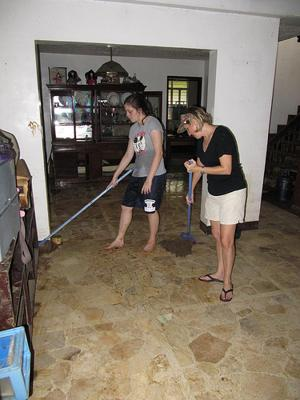person: (106, 94, 166, 256)
